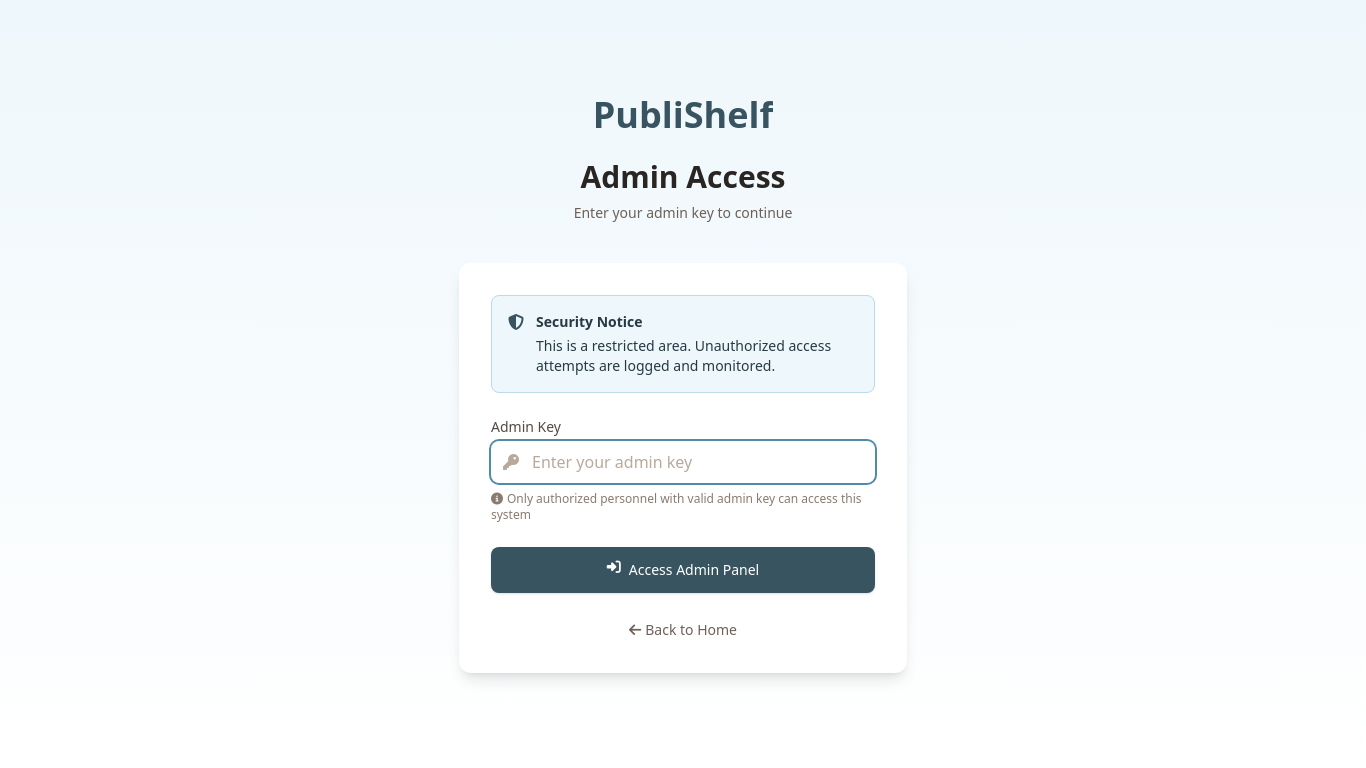
it: AdminLogin › shows server error message when login fails
In the password field with placeholder "Enter your admin key": (683, 462) [491,441,875,483], type "123456"
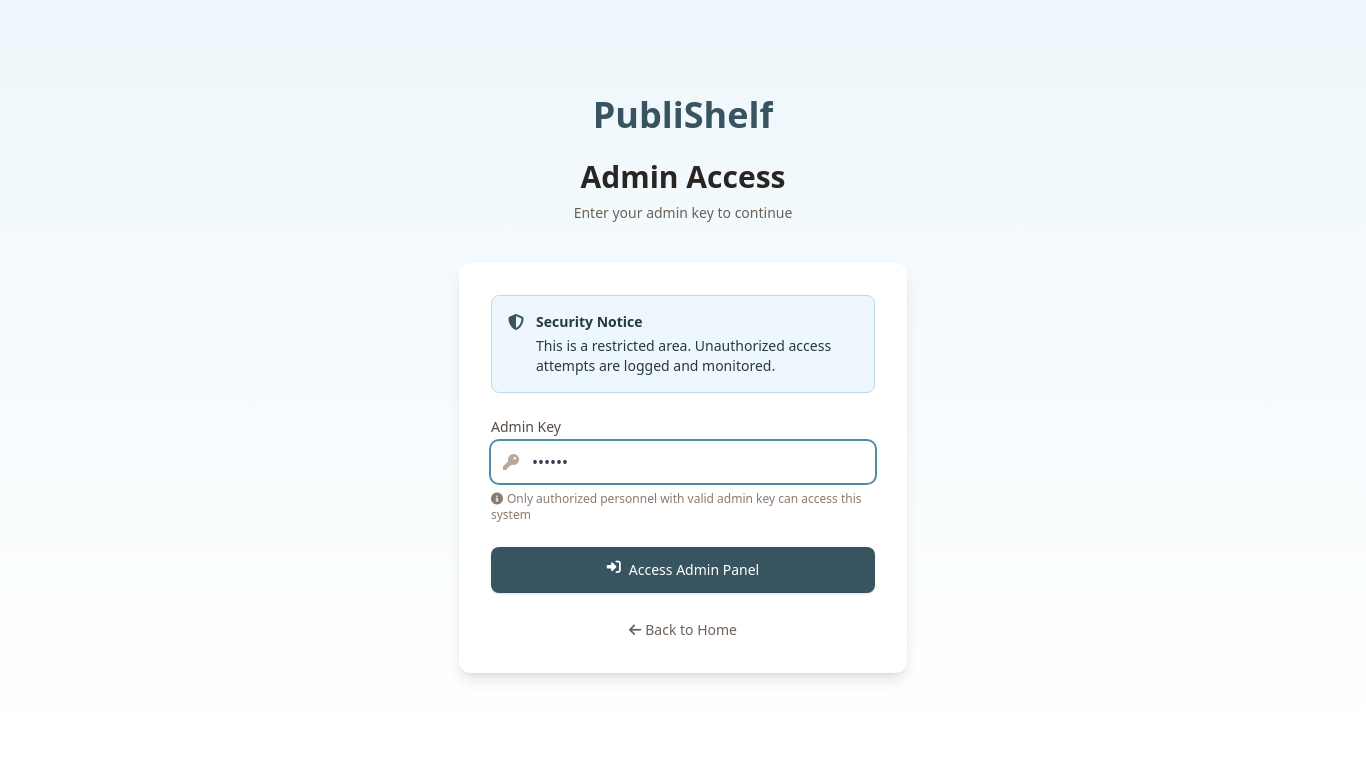
Click the button "Access Admin Panel": (683, 570) [491,547,875,593]
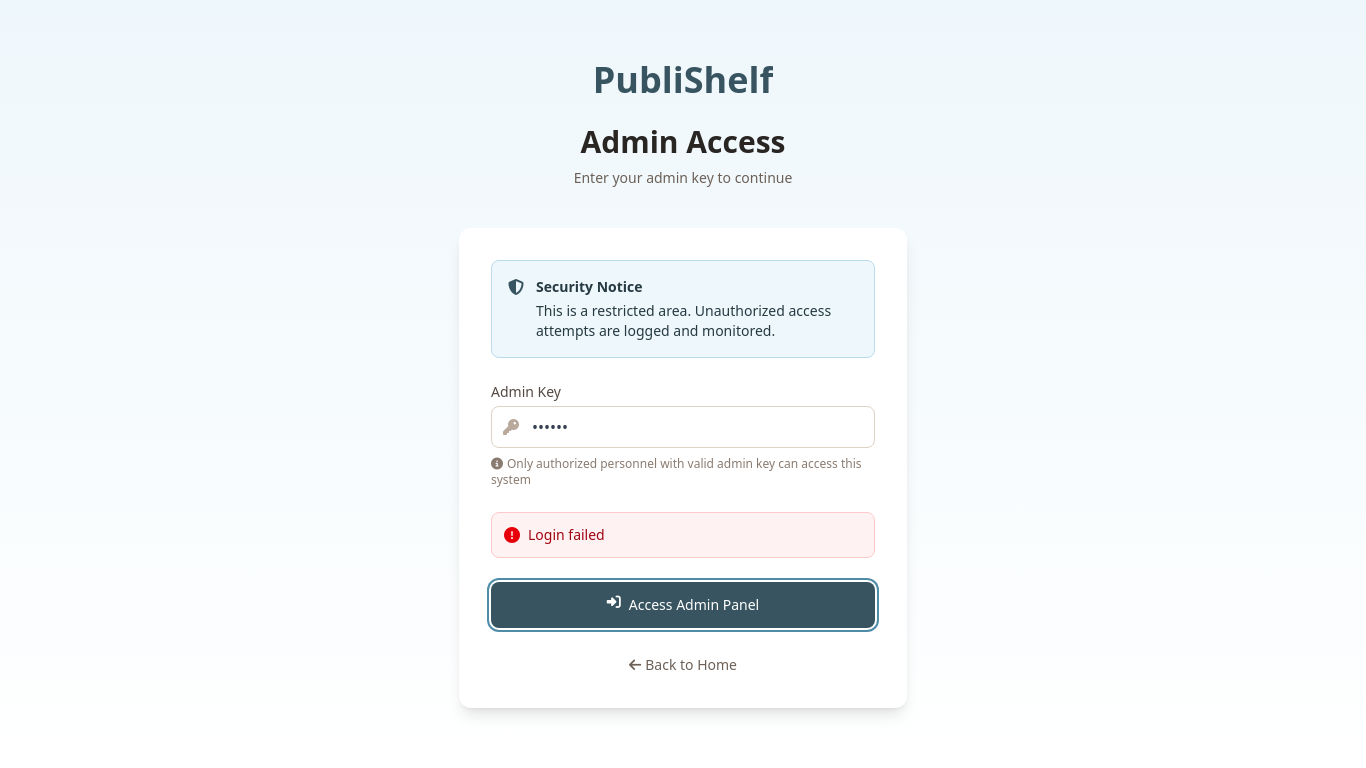
Check: the text "Login failed" is shown, box [528,525,605,545]
